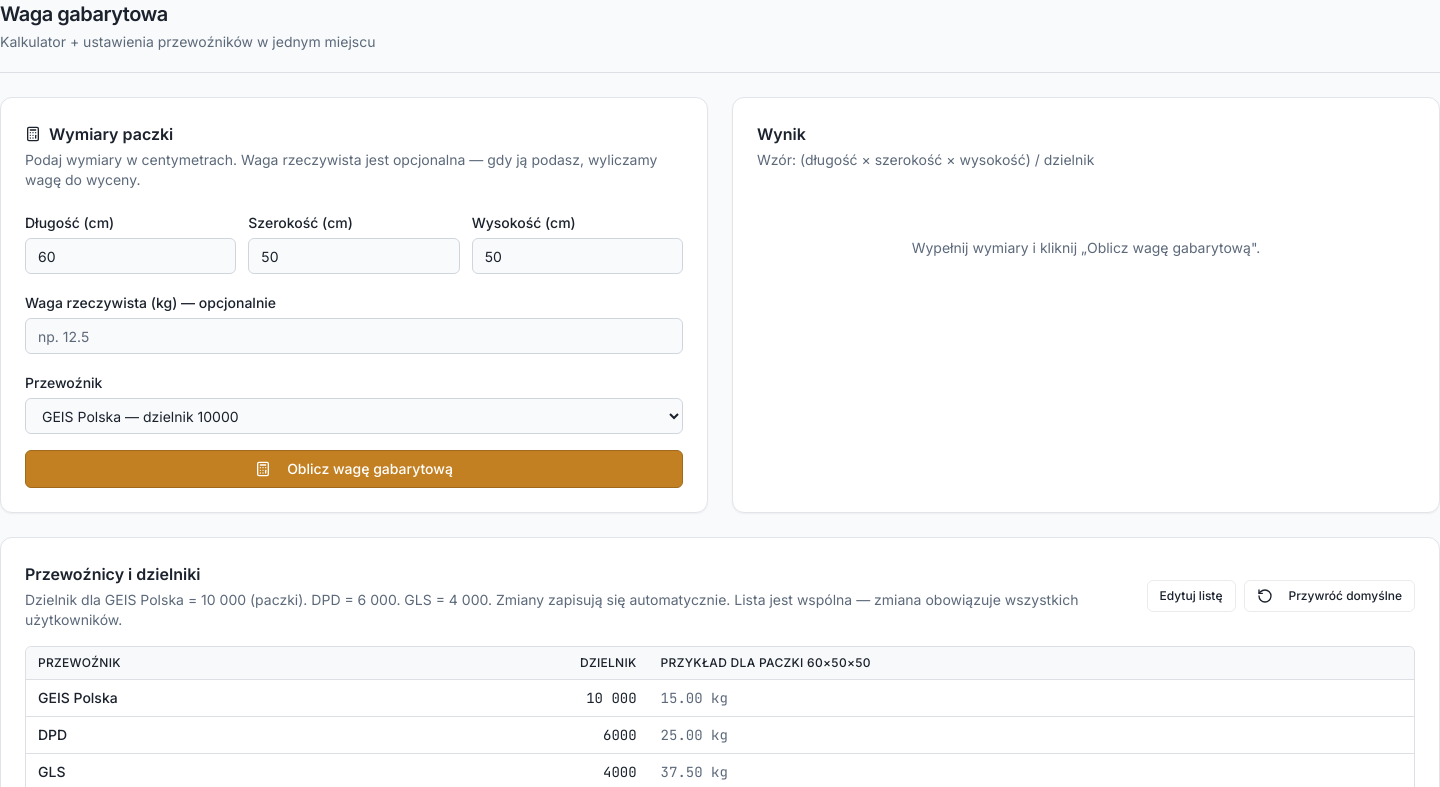
it: widok wagi gabarytowej — wspólna lista przewoźników › pola edycji pojawiają się dopiero po wejściu w tryb edycji
Click the button with test id "button-edycja-przewoznikow": {"x": 1191, "y": 596} [1146,580,1236,612]
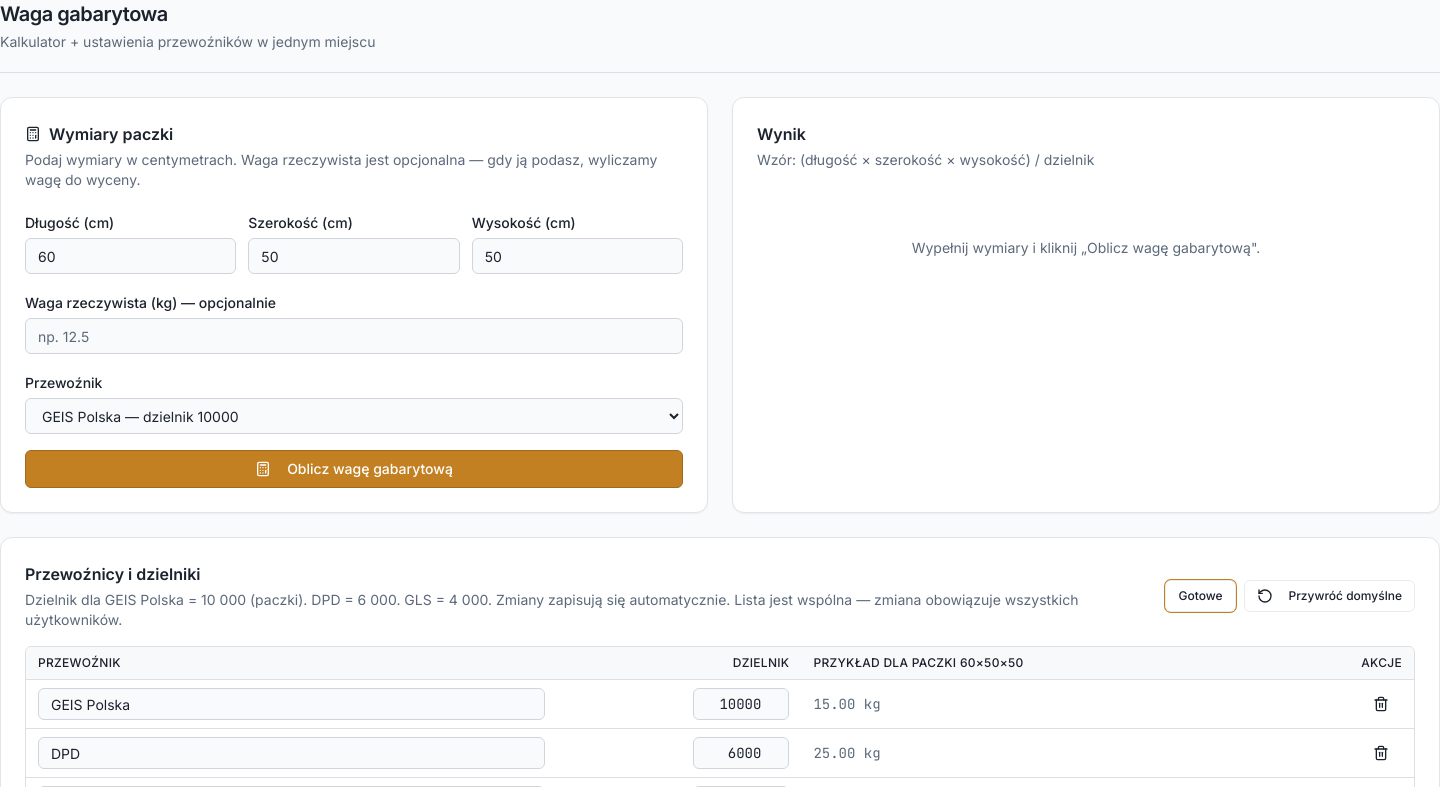
Check: the field with test id "input-nazwa-geis" is shown, box [38,688,544,720]
Check: the number field with test id "input-dzielnik-geis" is shown, box [693,688,789,720]
Check: the button "Gotowe" is shown, box [1166,580,1236,612]
